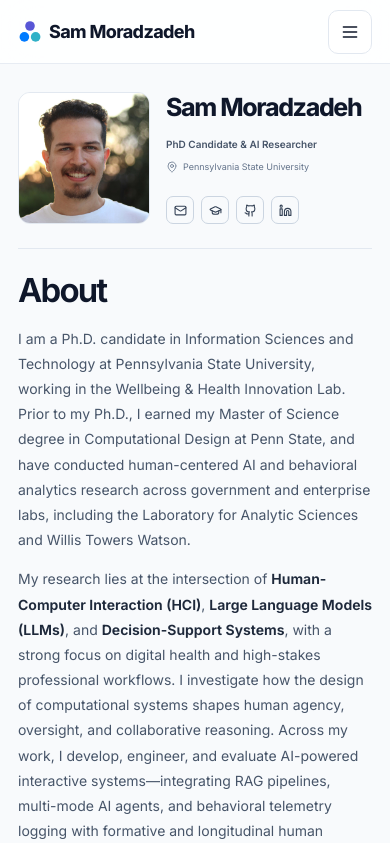
it: exposes a keyboard-accessible mobile navigation menu
Click the button named "Open navigation menu" at (350, 32), box [328,10,372,54]
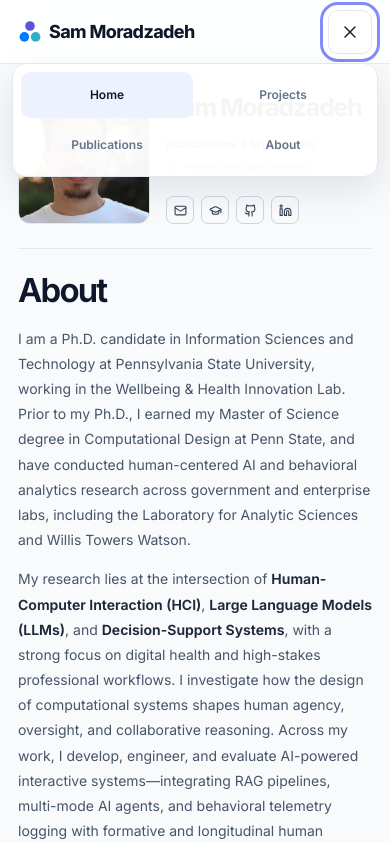
expect the button named "Open navigation menu" is expanded: met, box [328,10,372,54]
Click the tab "Projects" at (283, 95), box [259,87,307,102]
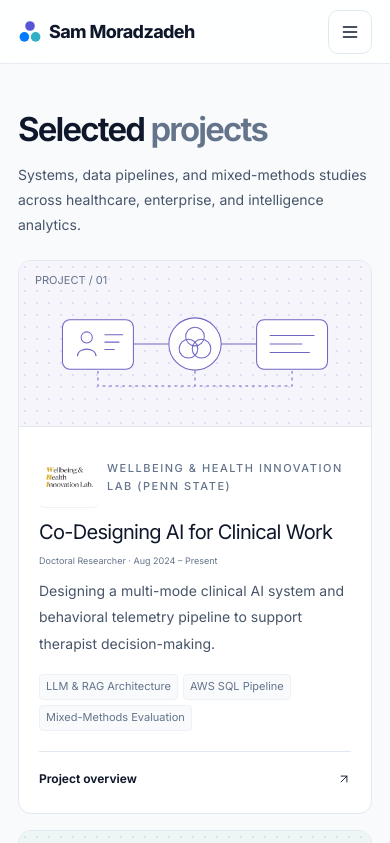
expect the button named "Open navigation menu" is collapsed: met, box [328,10,372,54]
